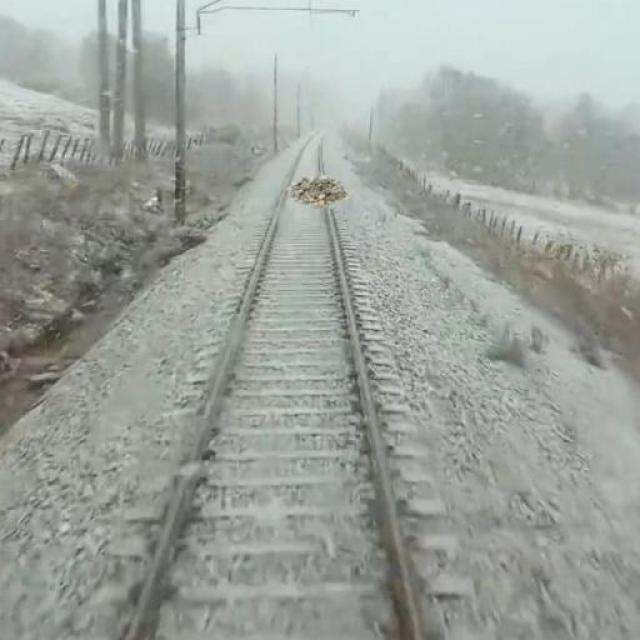Stone: (289, 170, 360, 214)
